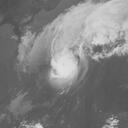cyclone: (50, 50, 78, 84)
